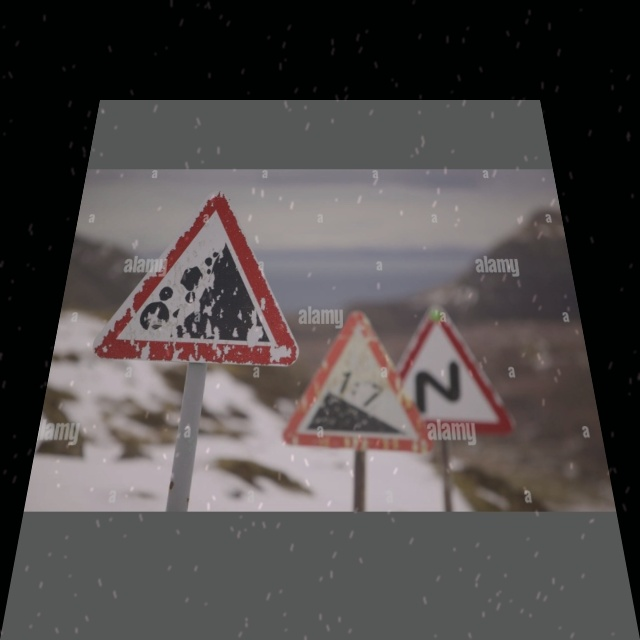Falling_Rocks: (103, 194, 291, 363)
